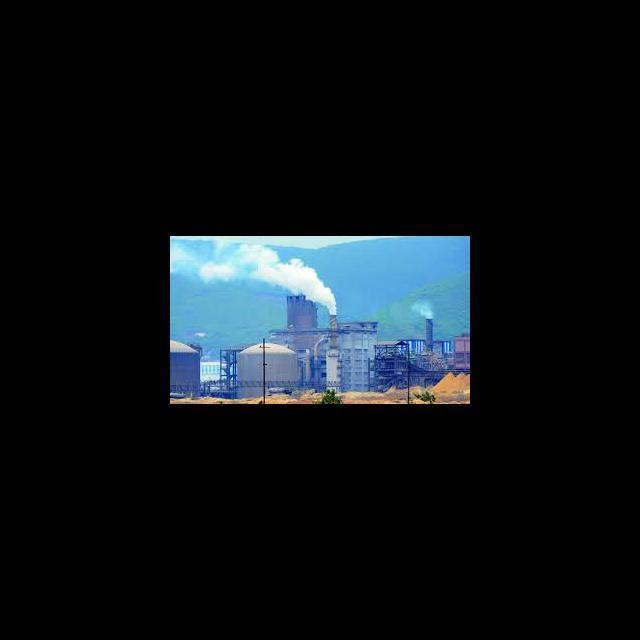Smoke: (170, 238, 337, 314)
